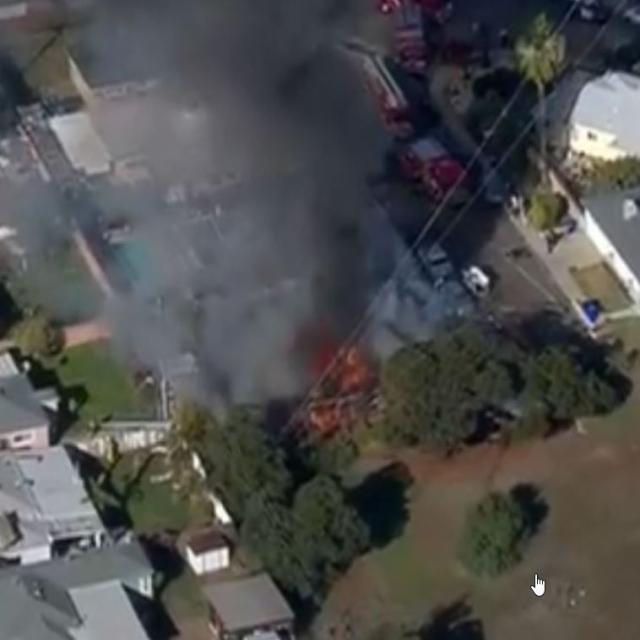Fire: (309, 342, 368, 434)
Smoke: (134, 24, 386, 390)
